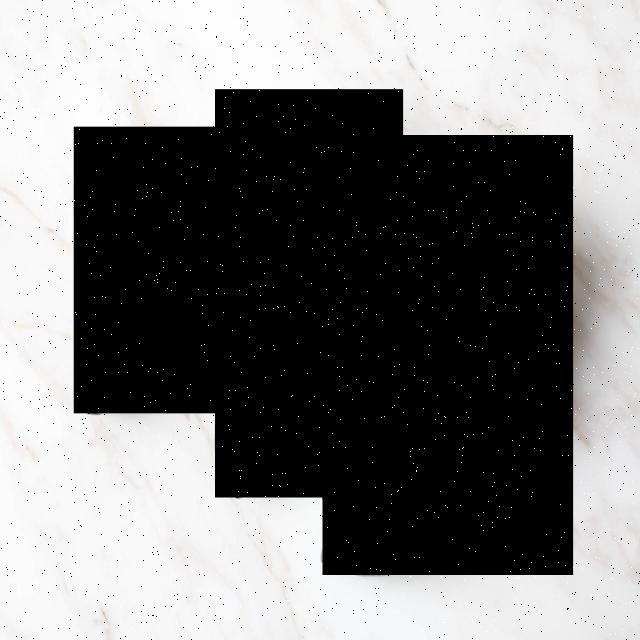Chili_Pepper: (322, 135, 573, 575), (215, 89, 403, 498), (74, 127, 264, 413)
